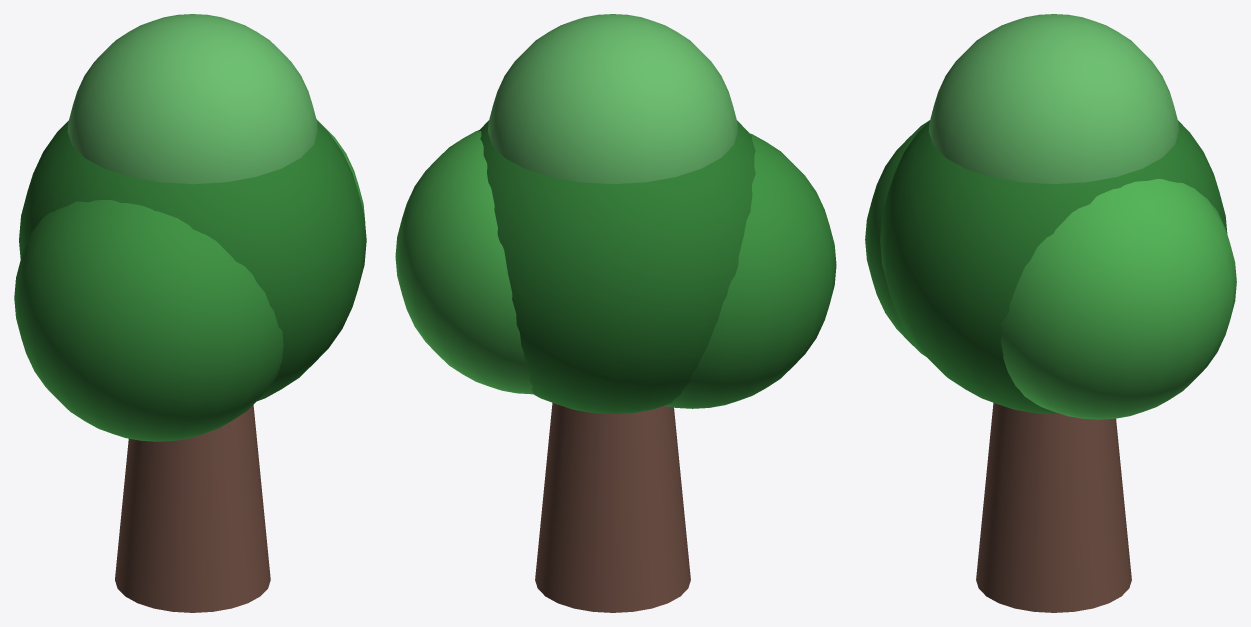
The model's file is pohon.glb.
The picture shows the model from 3 angles, left to right: view 1: azimuth 30°, elevation 25°; view 2: azimuth 150°, elevation 25°; view 3: azimuth 270°, elevation 25°; orthographic projection.
Size of the model in its own units: 1.38 by 2.04 by 1.24.
